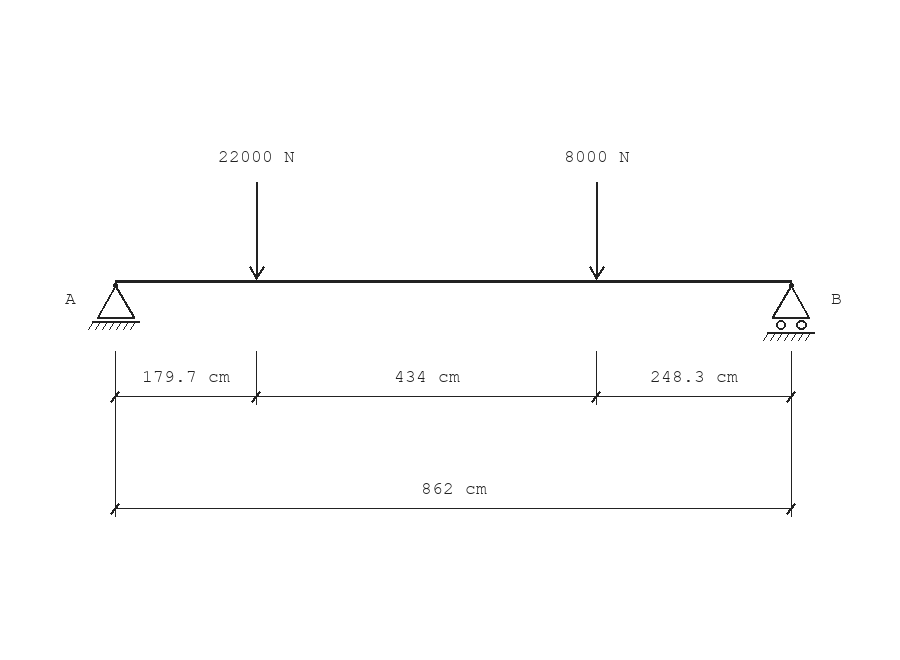pin_support: (88, 283, 140, 330)
point_load: (249, 182, 265, 280), (589, 182, 605, 280)
roller_support: (763, 283, 815, 341)
